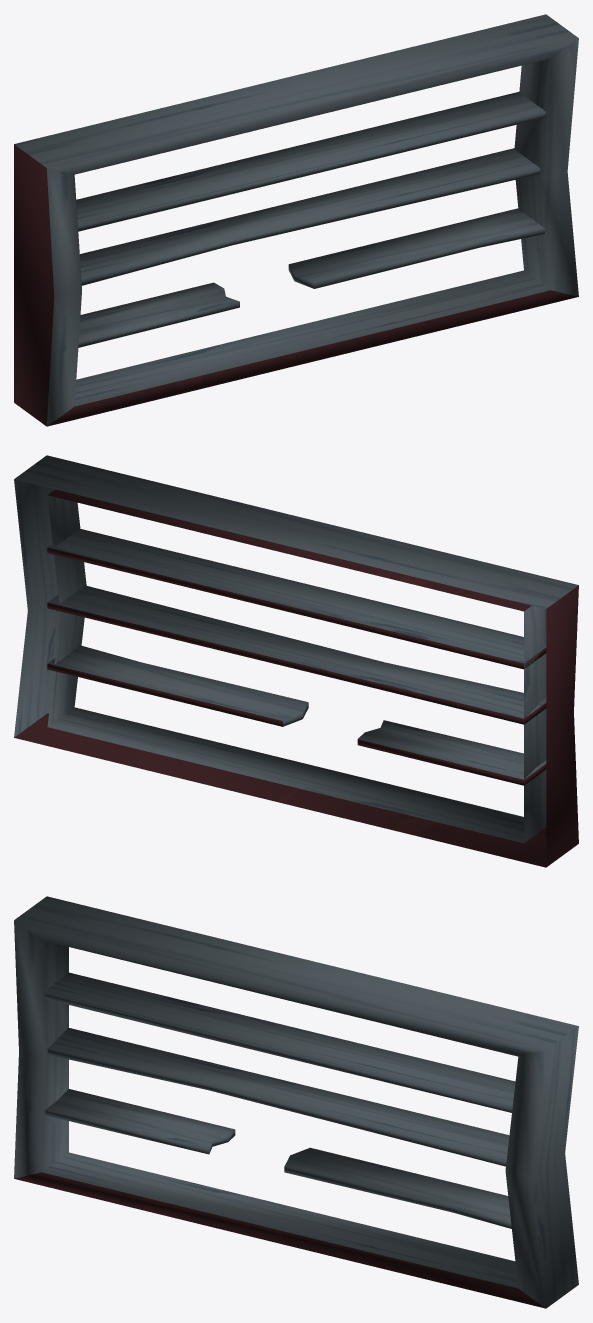
Rendered from Estante.fbx.
3 renders of one model, top to bottom at view 1: azimuth 30°, elevation 25°; view 2: azimuth 150°, elevation 25°; view 3: azimuth 330°, elevation 25°, orthographic.
Parts seen in each view (by area): view 1: Estate; view 2: Estate; view 3: Estate.
Boxes of the visible parts, box(x1,y1,x2,y2) form: Estate: box(14, 14, 578, 426); Estate: box(14, 455, 578, 867); Estate: box(14, 896, 578, 1308).
Size of the model in its own units: 672 by 74.49 by 312.
